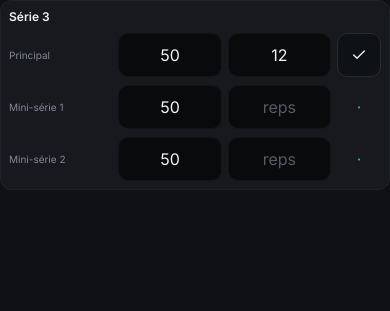
Cluster e Rest-pause — registro por toque › Rest-pause mantém principal livre e registra minis 4/3 com carga da principal
Later steps or results of the test are not shown.
Click the button named "Confirmar série 3 Principal" at point(359, 55), box [337,33,381,77]
Wait 15000 ms
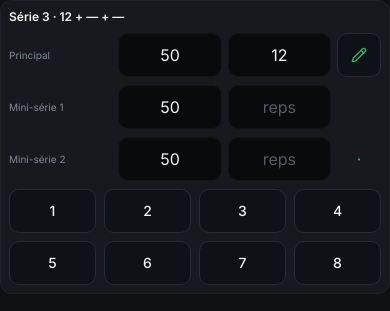
Expected: the number of buttons "1" is 8
